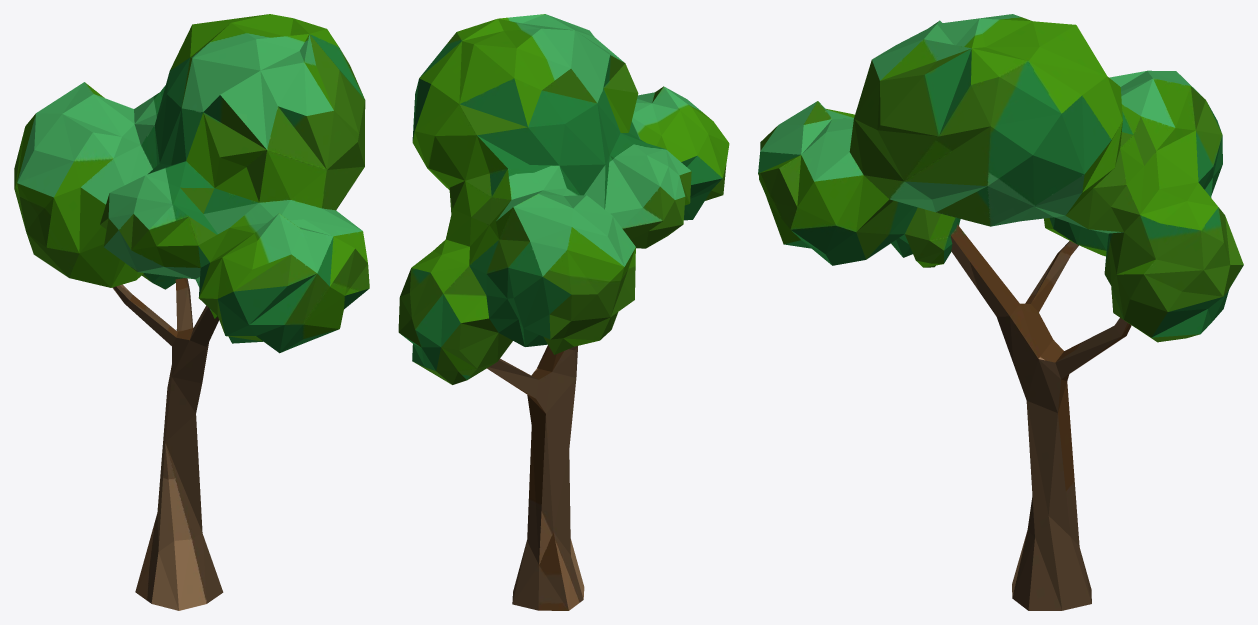
The model's file is tree2.glb.
The picture shows the model from 3 angles, left to right: view 1: azimuth 30°, elevation 25°; view 2: azimuth 150°, elevation 25°; view 3: azimuth 270°, elevation 25°; orthographic projection. The views are drawn at different scales.
Parts seen in each view (by area): view 1: geometry_0; view 2: geometry_0; view 3: geometry_0.
Part boxes in pixels (<box>): geometry_0: <box>14,14,369,610</box>; geometry_0: <box>398,14,729,610</box>; geometry_0: <box>758,14,1243,610</box>.
Size of the model in its own units: 0.7953 by 1.58 by 1.17.
1 material, 1 textured.
